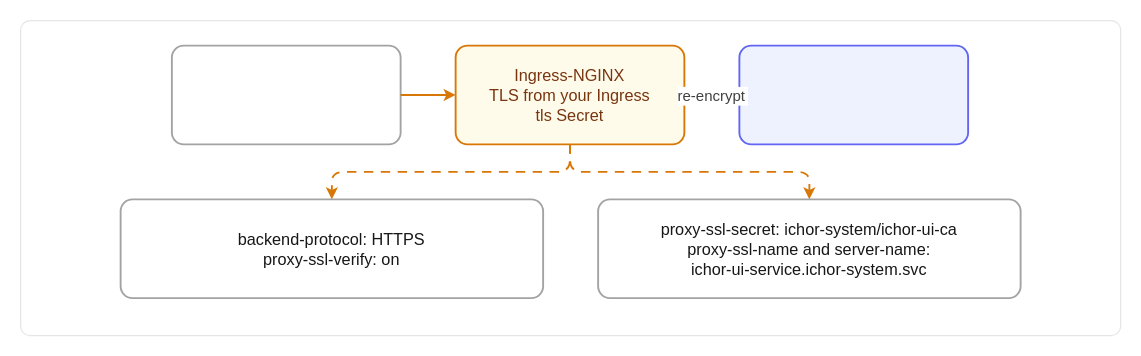
Some shapes in this 1141 by 356 pixel diagram are drawn without their labels. The centre of each missing label's shape, as x and y in pixels:
"Browser" belongs at (285,94).
"ichor-ui-service port 8443 (https)" belongs at (853,94).
